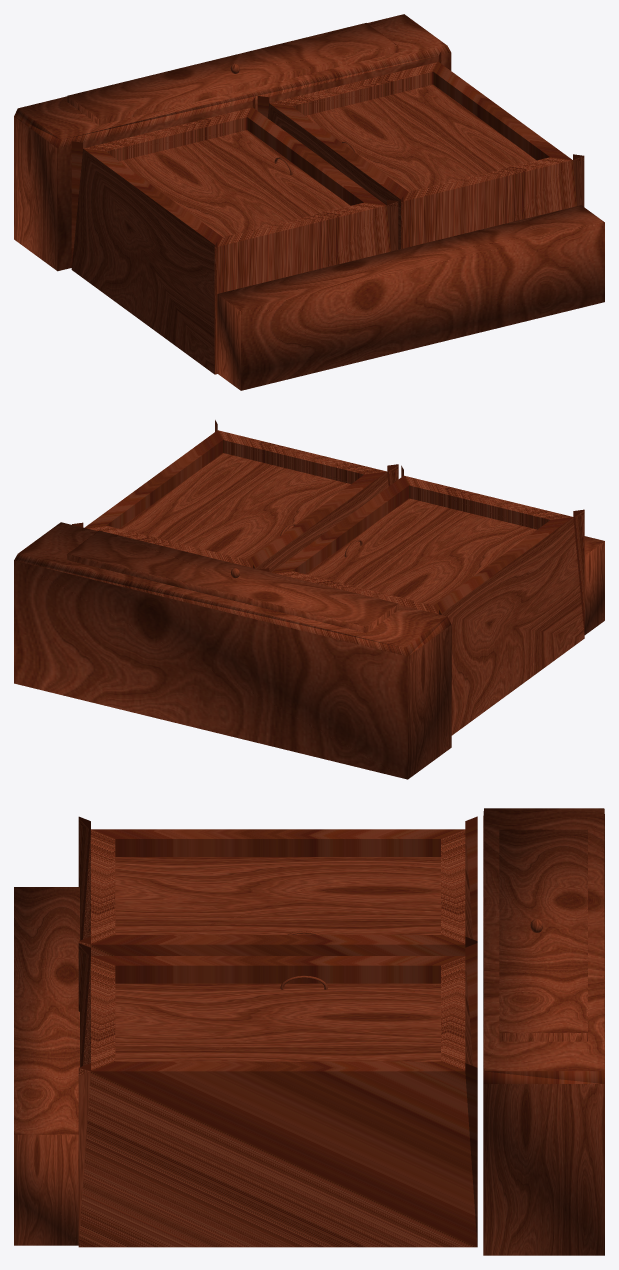
The model's file is KitchenDrawer.dae.
The picture shows the model from 3 angles, top to bottom: view 1: azimuth 30°, elevation 25°; view 2: azimuth 150°, elevation 25°; view 3: azimuth 270°, elevation 25°; orthographic projection. The views are drawn at different scales.
Visible parts, largest first — view 1: drawer_left, Box001, drawer_right, Box002, open_drawer; view 2: Box002, drawer_left, drawer_right, open_drawer, Box001; view 3: drawer_right, drawer_left, Box002, Box001, open_drawer.
Part boxes in pixels (left/top/right/bottom): drawer_left: left=71, top=97, right=398, bottom=374; Box001: left=217, top=205, right=604, bottom=390; drawer_right: left=257, top=51, right=584, bottom=249; Box002: left=14, top=14, right=451, bottom=271; open_drawer: left=67, top=23, right=398, bottom=125; Box002: left=14, top=522, right=451, bottom=779; drawer_left: left=259, top=465, right=584, bottom=735; drawer_right: left=72, top=420, right=398, bottom=572; open_drawer: left=67, top=530, right=398, bottom=632; Box001: left=584, top=536, right=604, bottom=634; drawer_right: left=78, top=943, right=477, bottom=1247; drawer_left: left=78, top=816, right=477, bottom=955; Box002: left=483, top=808, right=604, bottom=1255; Box001: left=14, top=887, right=79, bottom=1245; open_drawer: left=499, top=829, right=587, bottom=1041.
Bounding box in the file's own units: 36.76 × 34.29 × 12.95.
2 materials, 1 textured.
